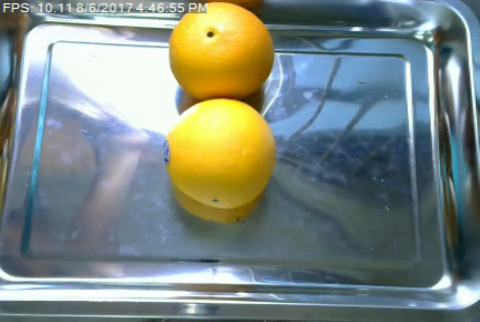Orange: (165, 98, 277, 208), (169, 1, 276, 99)
